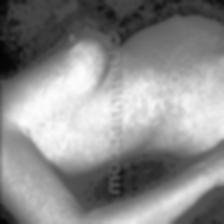Toxin: (68, 72, 84, 91), (151, 114, 169, 130)
